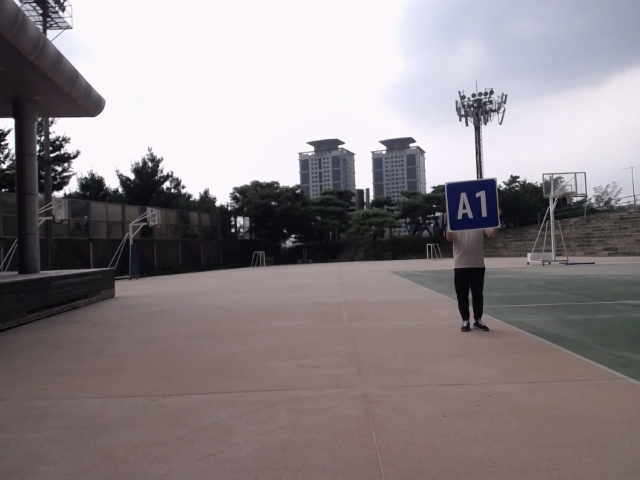delivery_a1: (445, 178, 498, 231)
